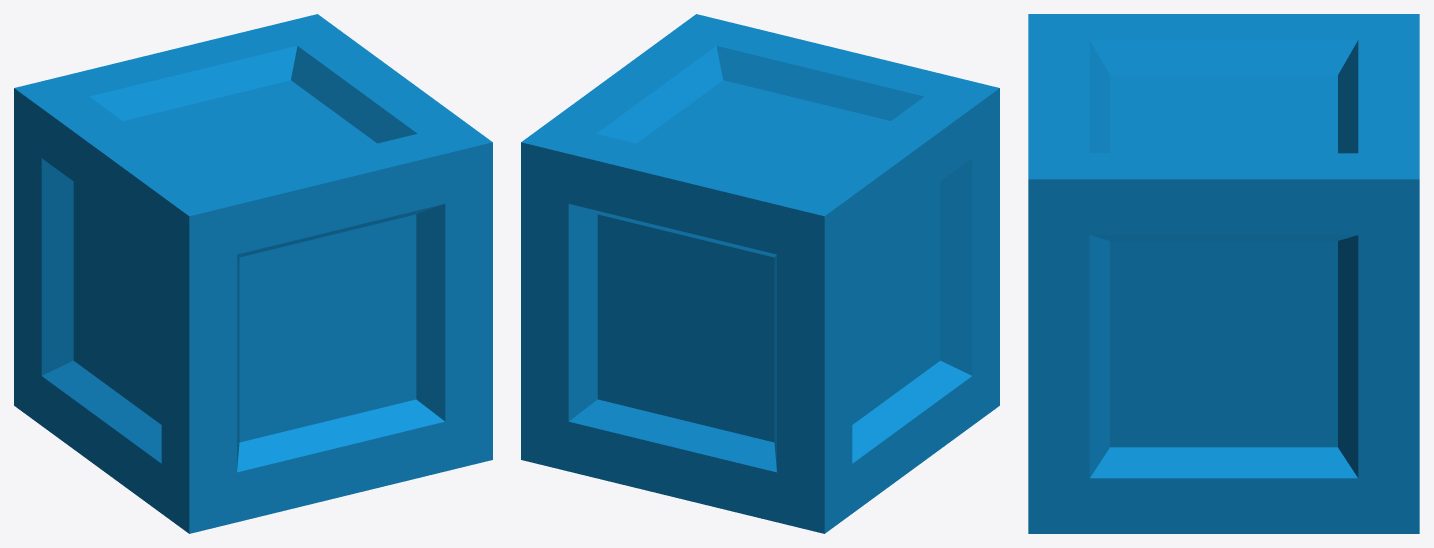
The model's file is caja.obj.
3 views of the same model, side by side, from view 1: azimuth 30°, elevation 25°; view 2: azimuth 150°, elevation 25°; view 3: azimuth 270°, elevation 25° (orthographic). The views are drawn at different scales.
Visible parts, largest first — view 1: Box; view 2: Box; view 3: Box.
Part boxes in pixels (<box>): Box: <box>14,14,492,533</box>; Box: <box>521,14,999,533</box>; Box: <box>1028,14,1419,533</box>.
Bounding box in the file's own units: 2 × 2 × 2.
Materials: 1 (1 with a texture image).
